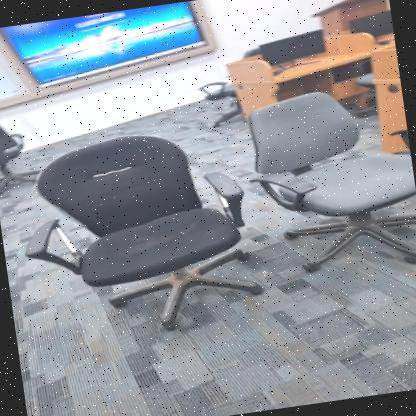chair: (1, 107, 267, 354), (232, 74, 416, 290)
